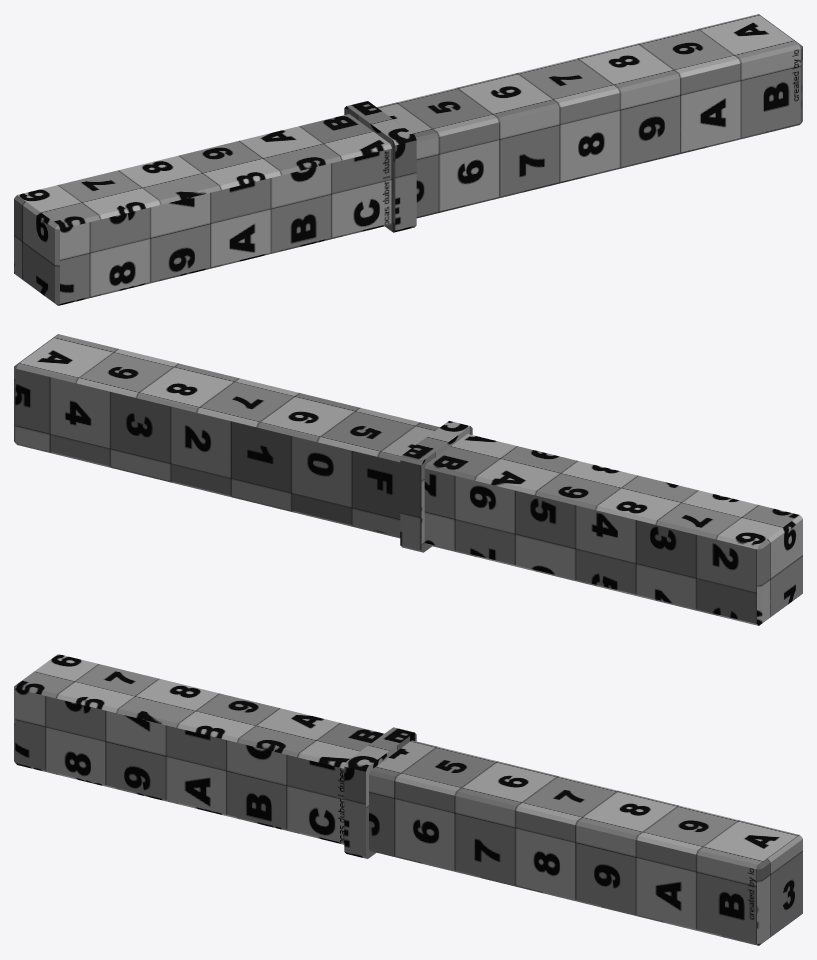
Rendered from Ruin1.fbx.
3 views of the same model, one above another, from view 1: azimuth 30°, elevation 25°; view 2: azimuth 150°, elevation 25°; view 3: azimuth 330°, elevation 25° (orthographic).
Visible parts, largest first — view 1: pCube1; view 2: pCube1; view 3: pCube1.
Boxes of the visible parts, x1,y1,x2,y2 form: pCube1: (14,14,802,305); pCube1: (14,334,802,625); pCube1: (14,654,802,945).
Size of the model in its own units: 194 by 22.83 by 22.83.
1 material, 1 textured.
